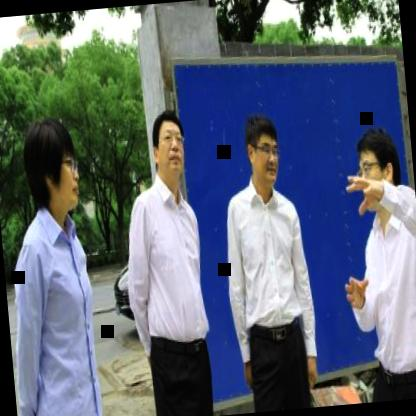head: (21, 113, 82, 228), (242, 110, 286, 197), (148, 105, 191, 191), (354, 125, 401, 193)
